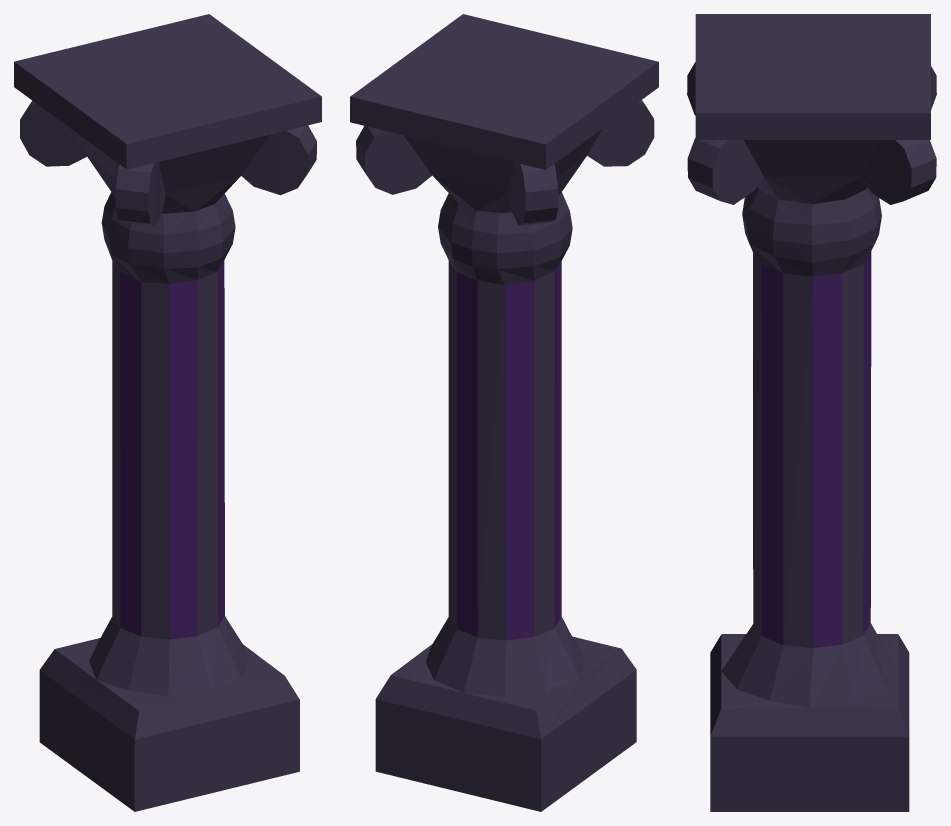
Rendered from TallPillar.fbx.
3 renders of one model, left to right at view 1: azimuth 30°, elevation 25°; view 2: azimuth 150°, elevation 25°; view 3: azimuth 270°, elevation 25°, orthographic. The views are drawn at different scales.
Parts seen in each view (by area): view 1: polySurface9; view 2: polySurface9; view 3: polySurface9.
Boxes of the visible parts, x1,y1,x2,y2 form: polySurface9: (14,14,321,811); polySurface9: (350,14,658,811); polySurface9: (687,14,936,811).
Size of the model in its own units: 207 by 663 by 212.
